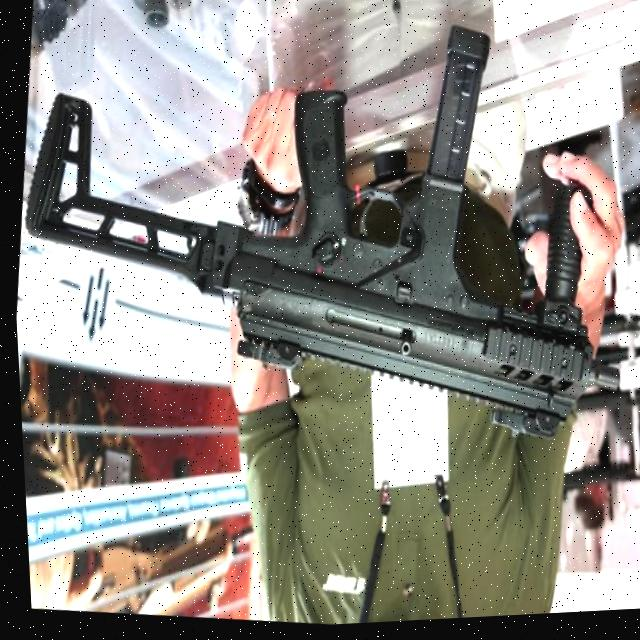firearm: (0, 0, 640, 472)
